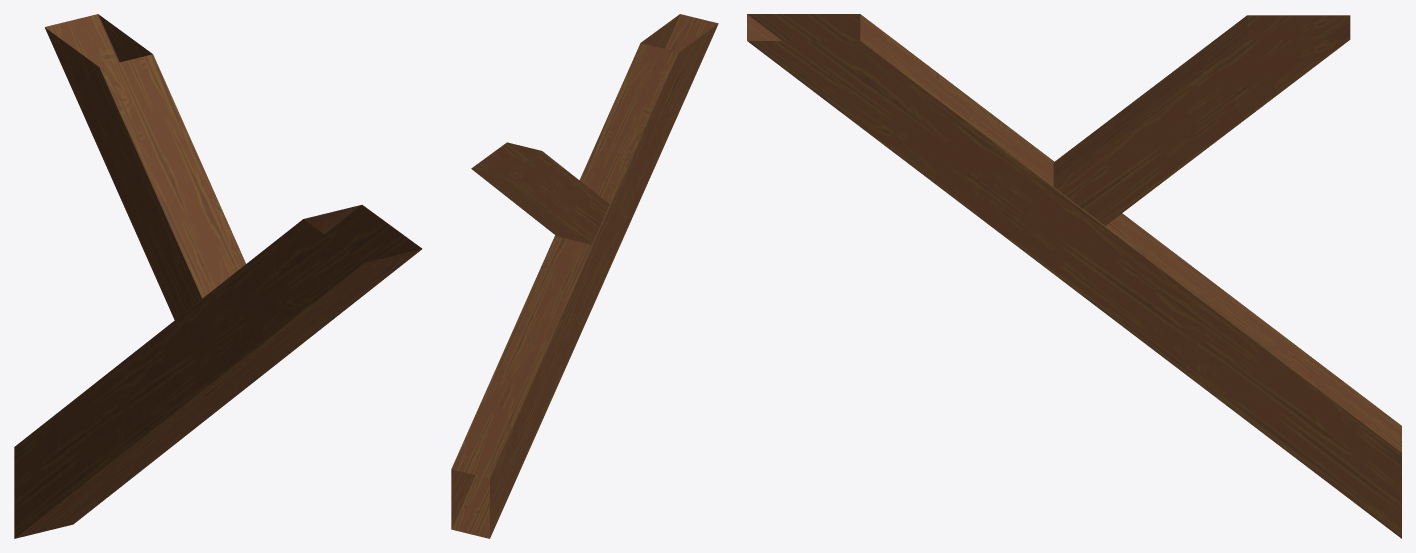
Rendered from Prop_Support.gltf.
3 renders of one model, left to right at view 1: azimuth 30°, elevation 25°; view 2: azimuth 150°, elevation 25°; view 3: azimuth 270°, elevation 25°, orthographic. The views are drawn at different scales.
Parts seen in each view (by area): view 1: Prop_Support; view 2: Prop_Support; view 3: Prop_Support.
Part boxes in pixels (box(x1,y1,x2,y2)): Prop_Support: box(14, 14, 422, 538); Prop_Support: box(451, 14, 718, 538); Prop_Support: box(747, 14, 1401, 538).
Size of the model in its own units: 0.1986 by 1.71 by 2.04.
1 material, 1 textured.
